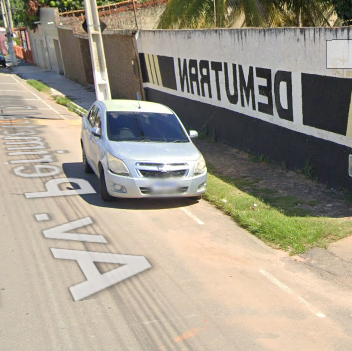car: (75, 85, 212, 209)
